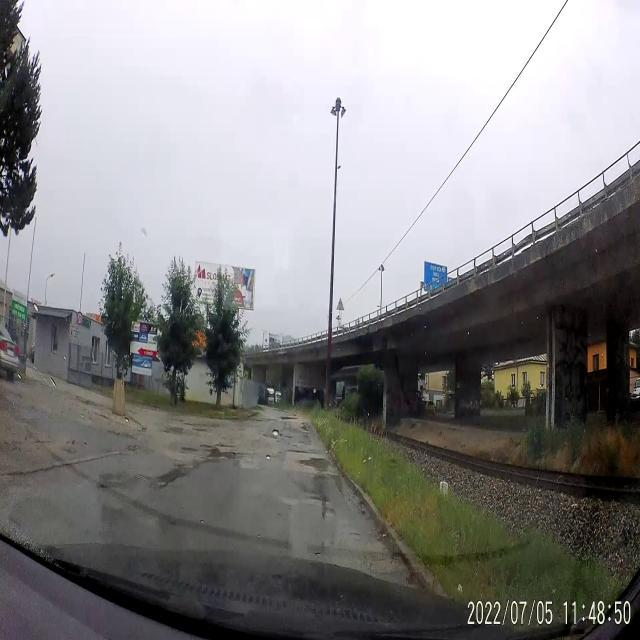Pothole: (293, 452, 332, 477)
